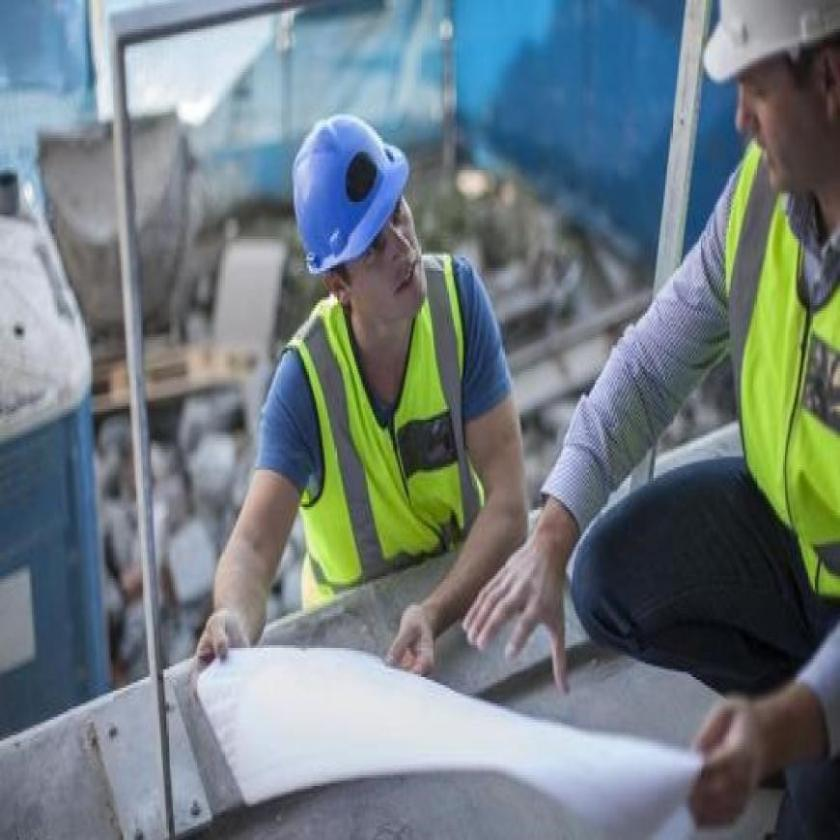Con_casco: (278, 89, 446, 330), (695, 0, 840, 206)
